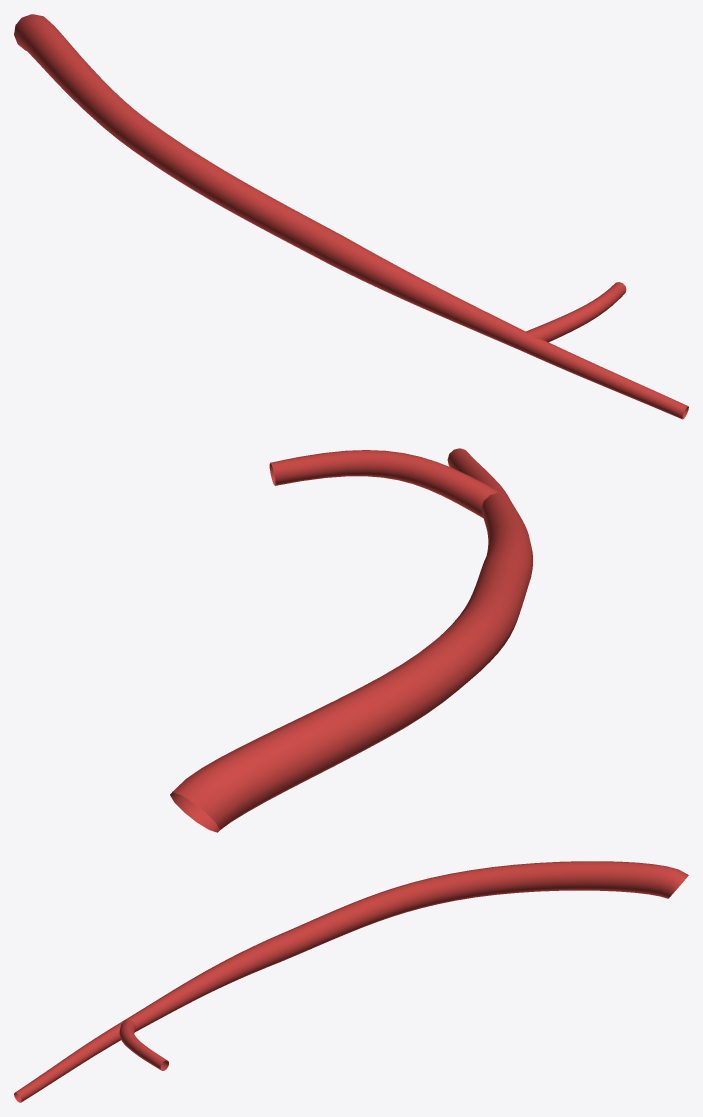
The picture shows the model from 3 angles, top to bottom: view 1: azimuth 30°, elevation 25°; view 2: azimuth 150°, elevation 25°; view 3: azimuth 270°, elevation 25°; orthographic projection. The views are drawn at different scales.
Parts seen in each view (by area): view 1: 右侧甲状腺下动脉; view 2: 右侧甲状腺下动脉; view 3: 右侧甲状腺下动脉.
Boxes of the visible parts, box(x1,y1,x2,y2) form: 右侧甲状腺下动脉: box(14, 14, 688, 419); 右侧甲状腺下动脉: box(170, 448, 532, 832); 右侧甲状腺下动脉: box(14, 861, 688, 1102).
Size of the model in its own units: 0.0216 by 0.0114 by 0.0503.
